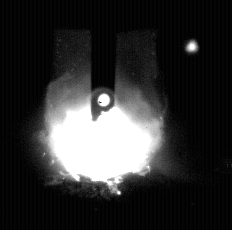arame: (91, 0, 116, 121)
poca: (43, 0, 165, 230)
